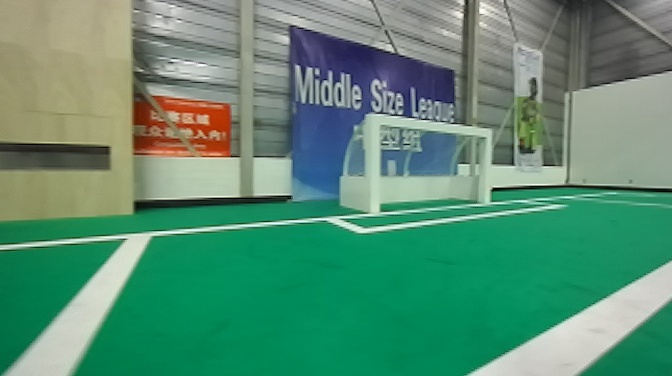goalpost: (359, 106, 387, 218), (475, 119, 494, 210)
